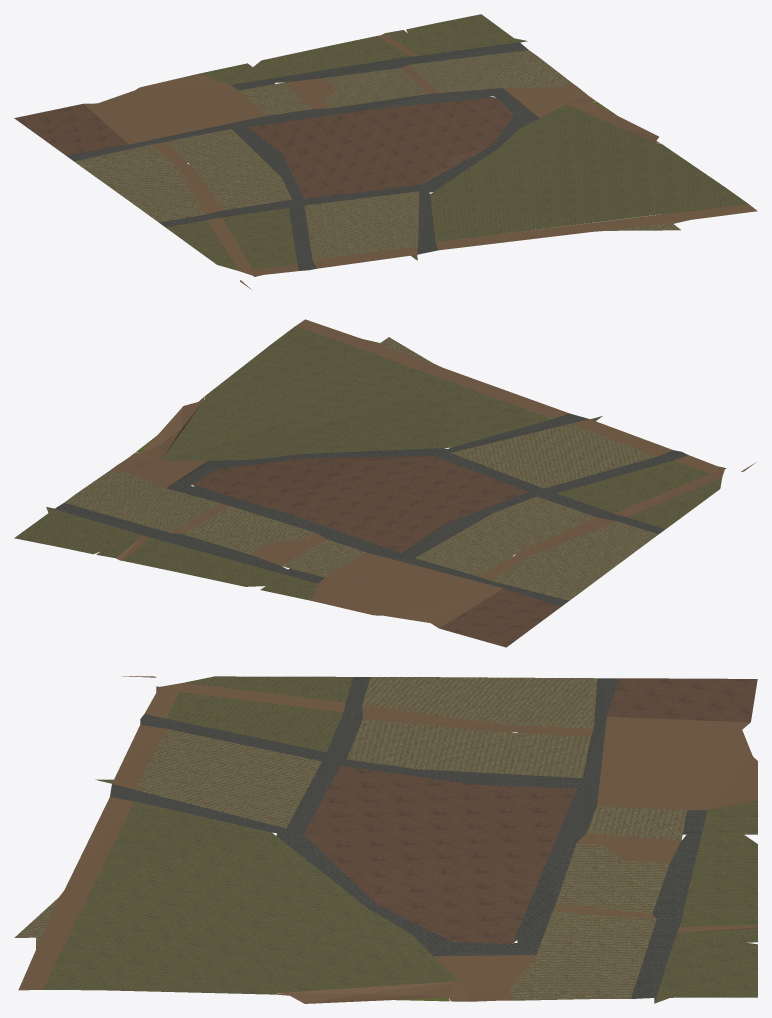
File: Terreno005.fbx
3 views of the same model, one above another, from view 1: azimuth 30°, elevation 25°; view 2: azimuth 150°, elevation 25°; view 3: azimuth 270°, elevation 25° (orthographic). The views are drawn at different scales.
Parts seen in each view (by area): view 1: Terreno.005; view 2: Terreno.005; view 3: Terreno.005.
Part boxes in pixels (x1,y1,x2,y2): Terreno.005: (14,14,757,290); Terreno.005: (14,319,755,647); Terreno.005: (14,676,757,1003).
Bounding box in the file's own units: 30550 × 960 × 30919.
